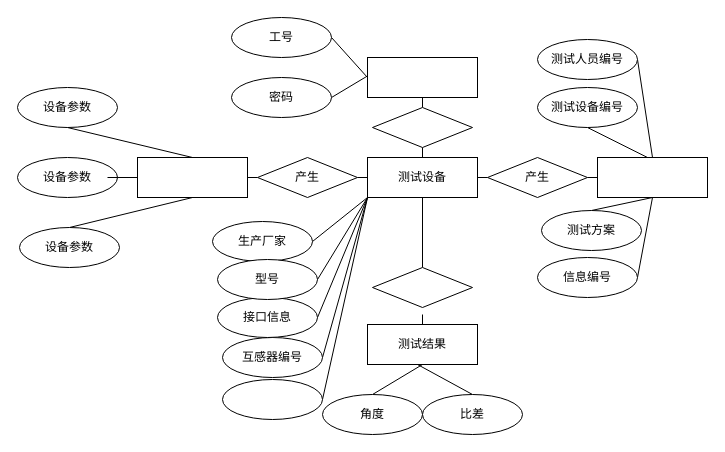
This 725x452 diagram has some shape labels left out. The box of each missing label's shape, as (x1, y1, x2, y2) in pixels:
使用额定电压: (222, 378, 322, 420)
存储: (372, 266, 472, 308)
控制: (372, 106, 472, 148)
测试人员: (366, 56, 478, 98)
测试信息: (596, 156, 708, 198)
测试过程信息: (136, 156, 248, 198)
